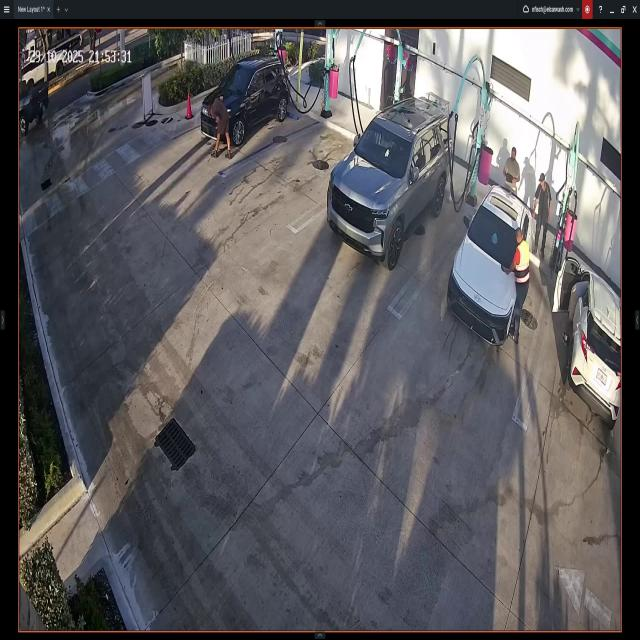Car: (327, 103, 453, 270), (447, 184, 531, 340), (559, 258, 621, 430), (202, 55, 290, 144), (19, 79, 50, 136)
